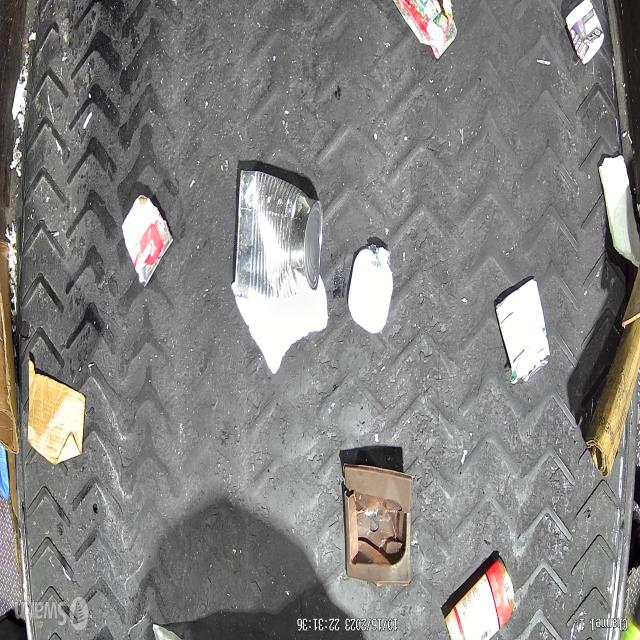can: (235, 169, 323, 301), (494, 277, 550, 387), (121, 194, 173, 287)
